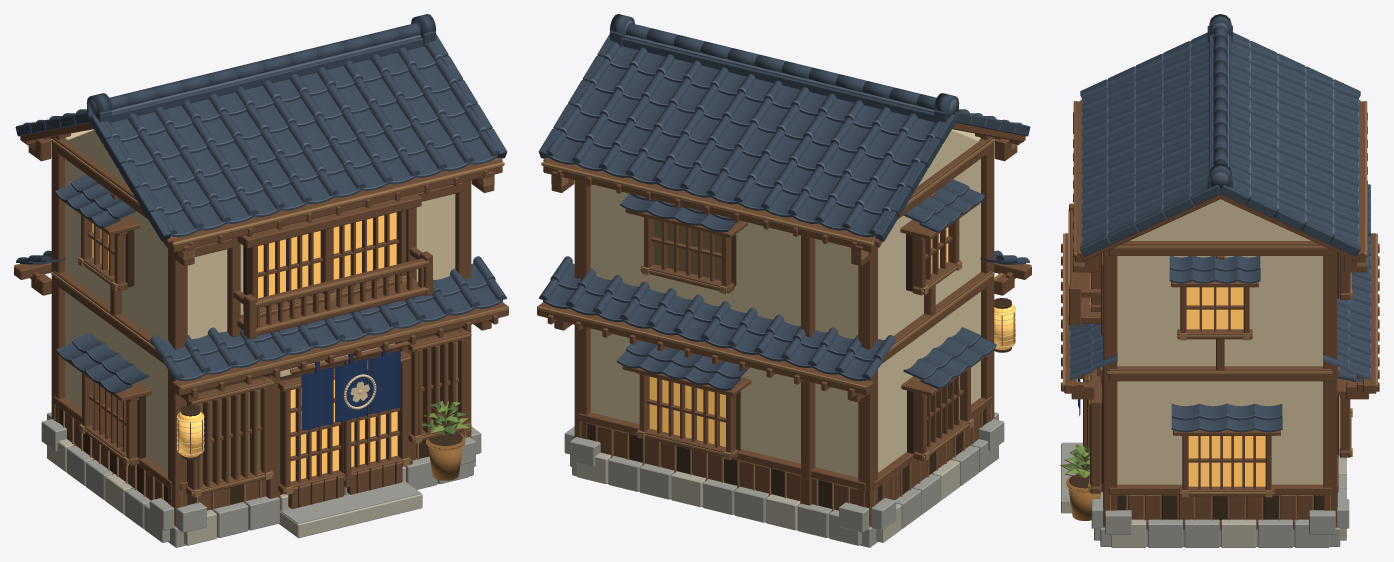
Rendered from kyoto-villa2.glb.
The picture shows the model from 3 angles, left to right: view 1: azimuth 30°, elevation 25°; view 2: azimuth 150°, elevation 25°; view 3: azimuth 270°, elevation 25°; orthographic projection. The views are drawn at different scales.
Visible parts, largest first — view 1: Kyoto_Machiya_Villa_2_geometry; view 2: Kyoto_Machiya_Villa_2_geometry; view 3: Kyoto_Machiya_Villa_2_geometry.
Part boxes in pixels (x1,y1,x2,y2): Kyoto_Machiya_Villa_2_geometry: (14,14,508,547); Kyoto_Machiya_Villa_2_geometry: (537,14,1031,547); Kyoto_Machiya_Villa_2_geometry: (1060,14,1379,547).
Size of the model in its own units: 2.93 by 3.2 by 2.4.
